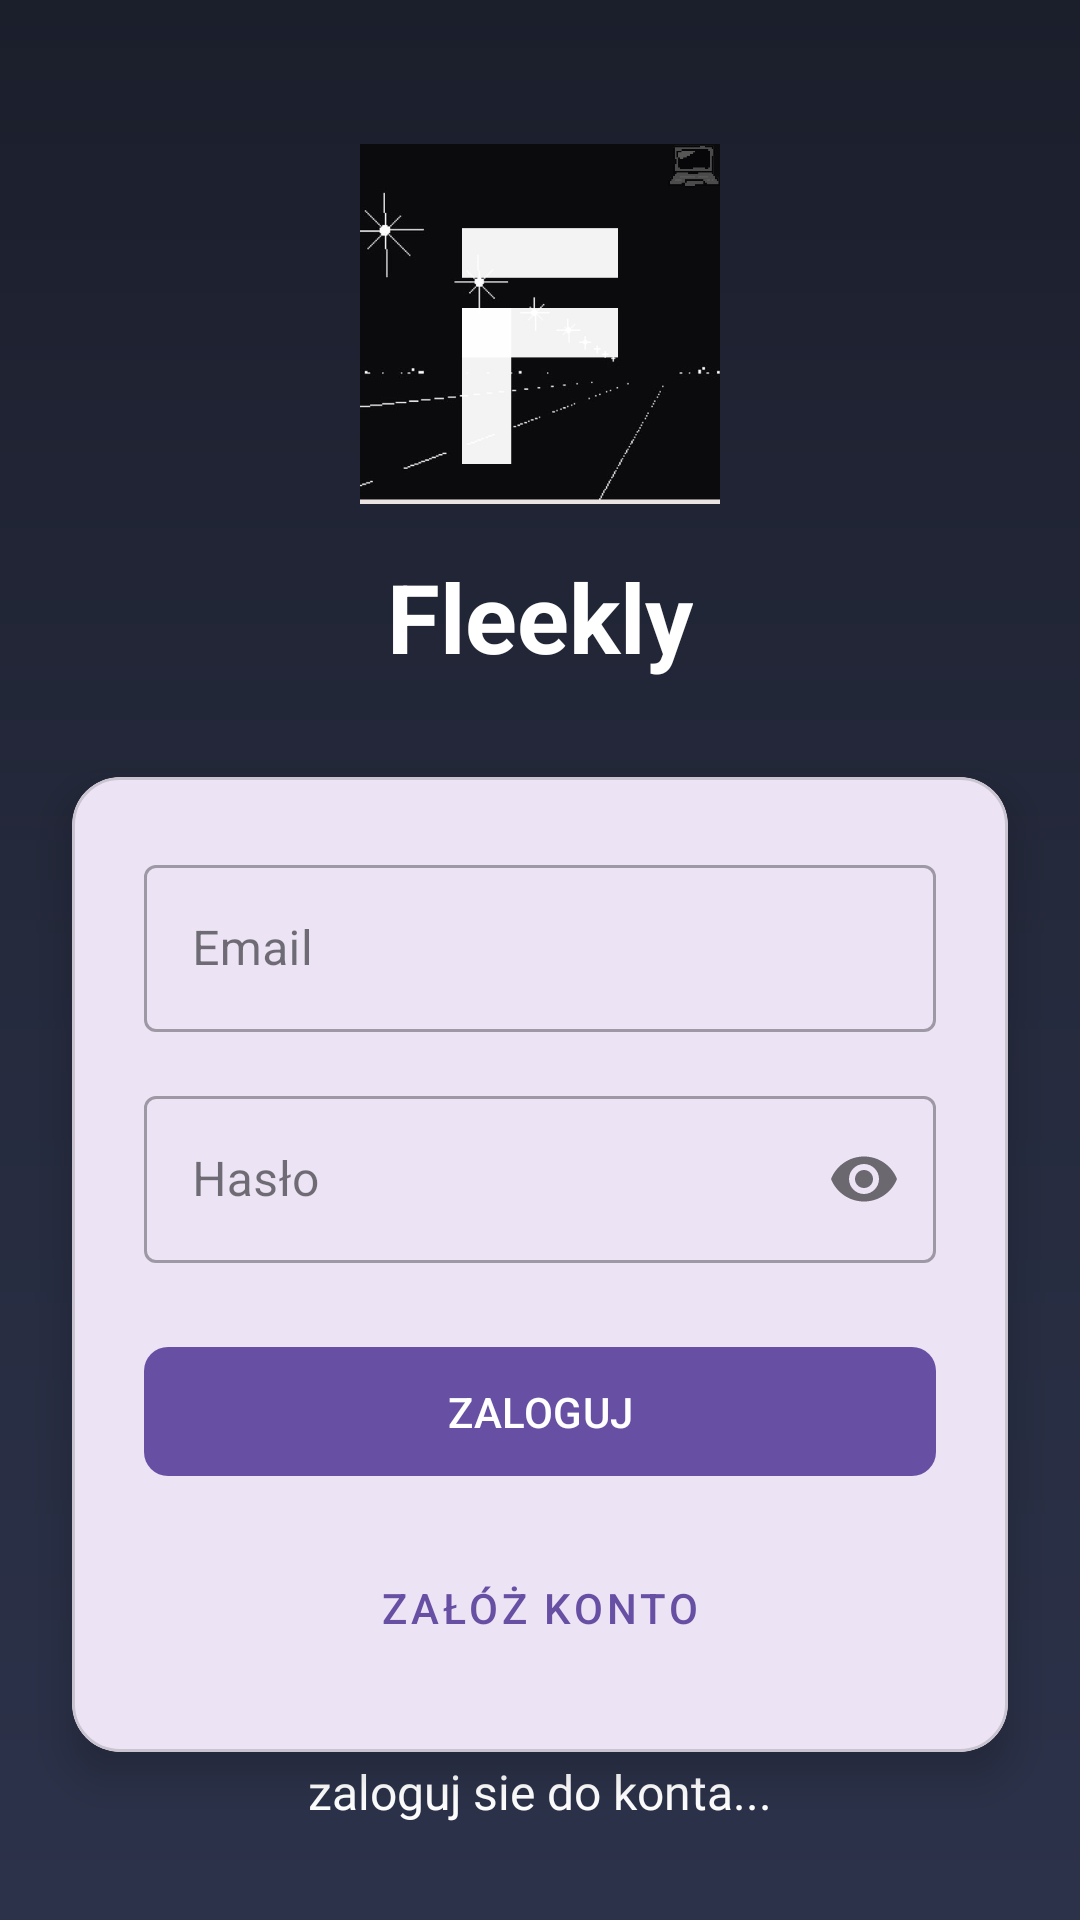

Point at icon controls on the screen. Image size 1080px×1920px, points as (x,y).
app: (540,324)
